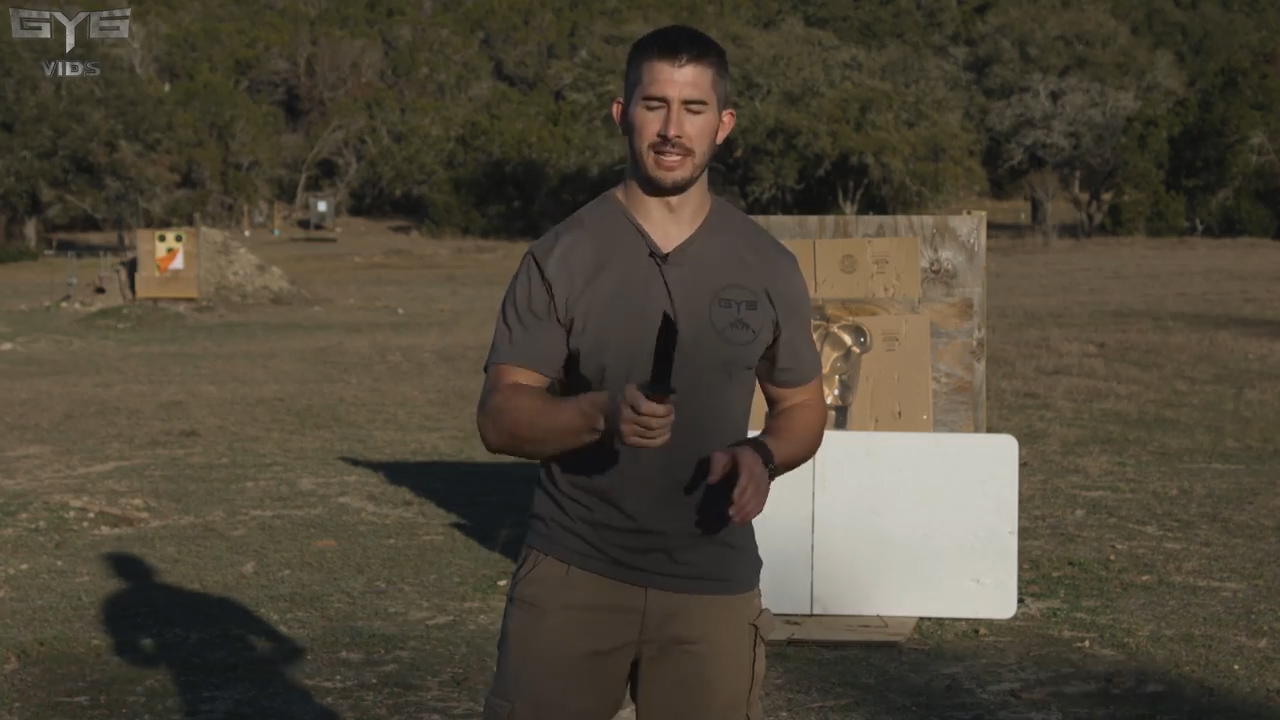knife: (615, 304, 690, 447)
